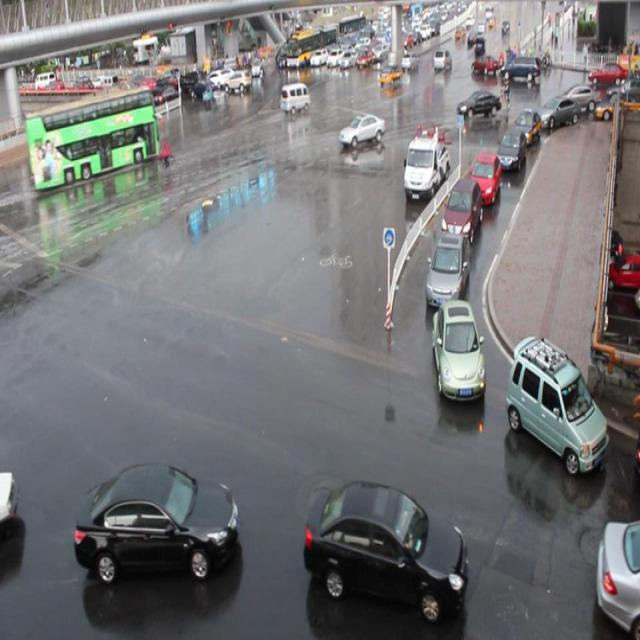bus: (400, 129, 450, 203)
car: (304, 477, 466, 618), (74, 461, 238, 577), (503, 327, 609, 472), (592, 515, 640, 640), (431, 298, 484, 400), (424, 230, 469, 307), (440, 175, 482, 242), (466, 150, 500, 204), (339, 110, 384, 148), (534, 94, 578, 131), (494, 126, 524, 174), (456, 91, 498, 120), (509, 108, 540, 147)
truck: (280, 82, 311, 114)
van: (28, 84, 158, 187)
